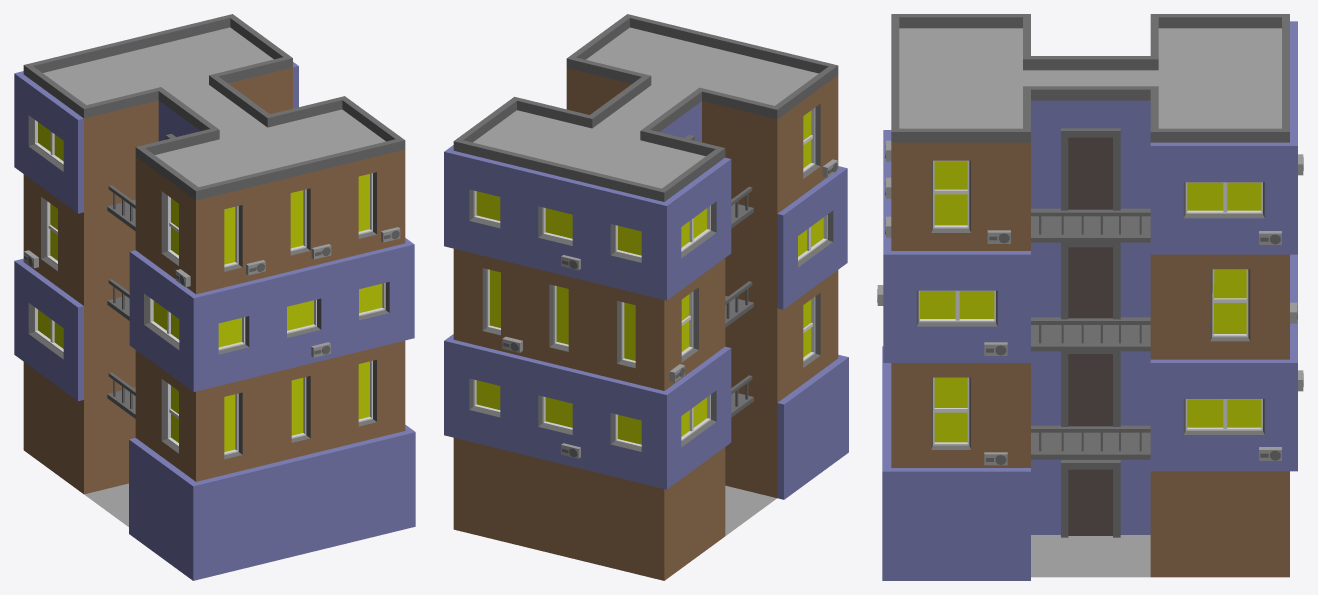
Rendered from Home_V3.fbx.
3 views of the same model, side by side, from view 1: azimuth 30°, elevation 25°; view 2: azimuth 150°, elevation 25°; view 3: azimuth 270°, elevation 25° (orthographic). The views are drawn at different scales.
Visible parts, largest first — view 1: Home_3; view 2: Home_3; view 3: Home_3.
Boxes of the visible parts, box(x1,y1,x2,y2) form: Home_3: box(14, 14, 415, 580); Home_3: box(444, 14, 848, 580); Home_3: box(877, 14, 1303, 580).
Size of the model in its own units: 15.21 by 25.29 by 21.41.
